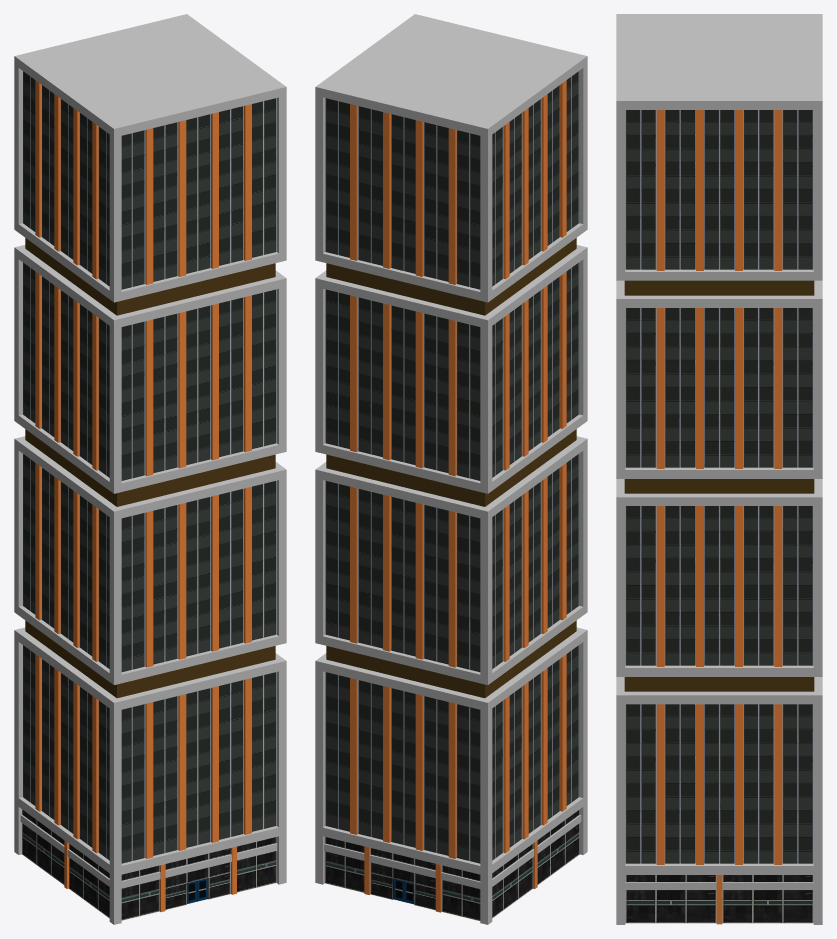
Rendered from Office-10.fbx.
3 views of the same model, side by side, from view 1: azimuth 30°, elevation 25°; view 2: azimuth 150°, elevation 25°; view 3: azimuth 270°, elevation 25° (orthographic). The views are drawn at different scales.
Visible parts, largest first — view 1: Building; view 2: Building; view 3: Building.
Boxes of the visible parts, x1,y1,x2,y2 form: Building: (14,14,286,924); Building: (315,14,587,924); Building: (616,14,822,924).
Size of what is drawn, in the model's own units: 20.8 by 91.7 by 20.8.
